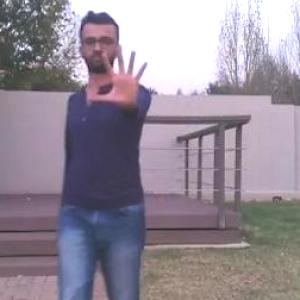follow_hand: (88, 40, 152, 108)
